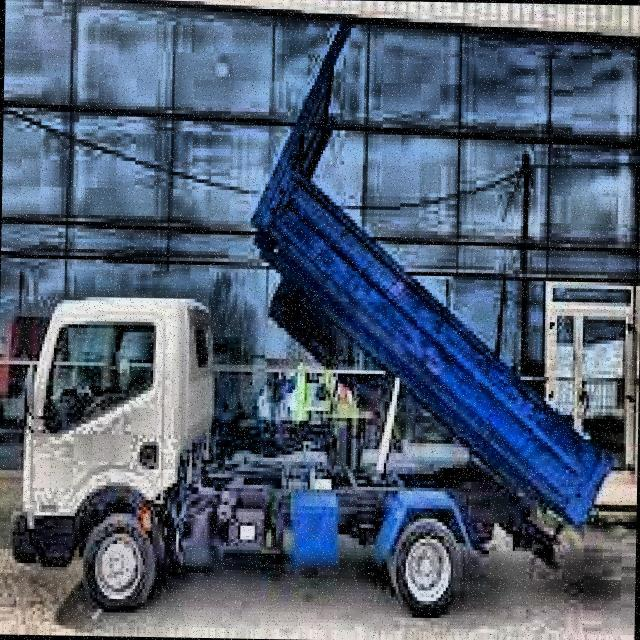dump_truck: (9, 8, 623, 629)
